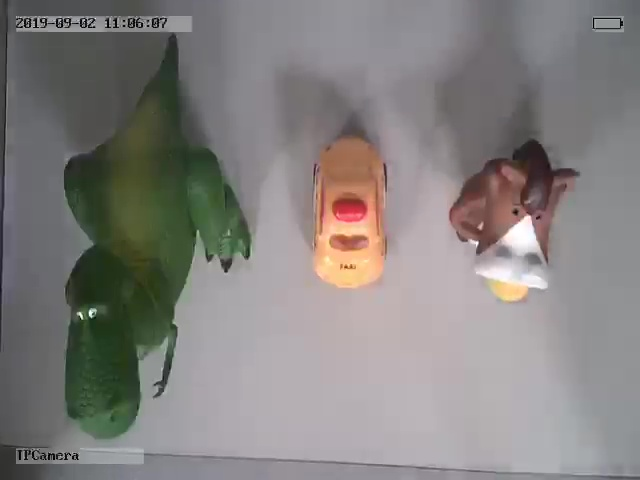car: (311, 134, 389, 287)
horse: (447, 138, 581, 302)
rex: (63, 51, 250, 442)
